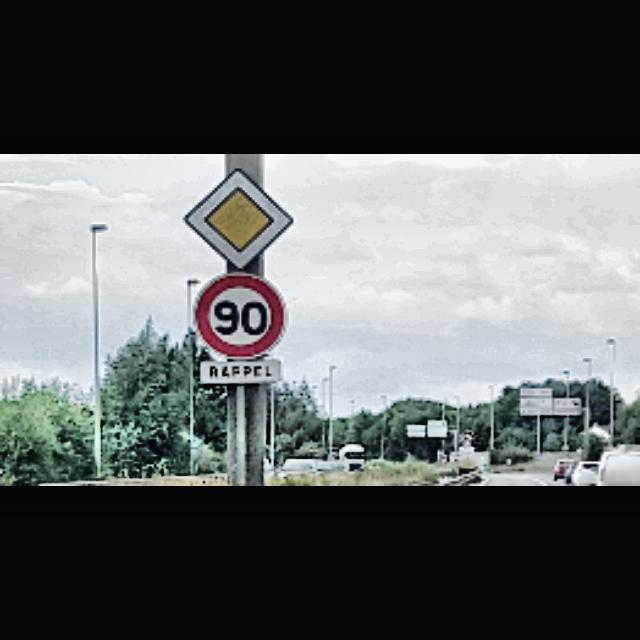speed_90: (194, 272, 288, 360)
